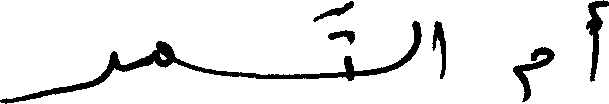أ: (583, 0, 608, 83)
ا: (432, 19, 446, 79)
ت: (342, 0, 354, 82)
ر: (0, 48, 115, 102)
ل: (401, 19, 423, 66)
م: (510, 44, 553, 101), (150, 39, 175, 69)
